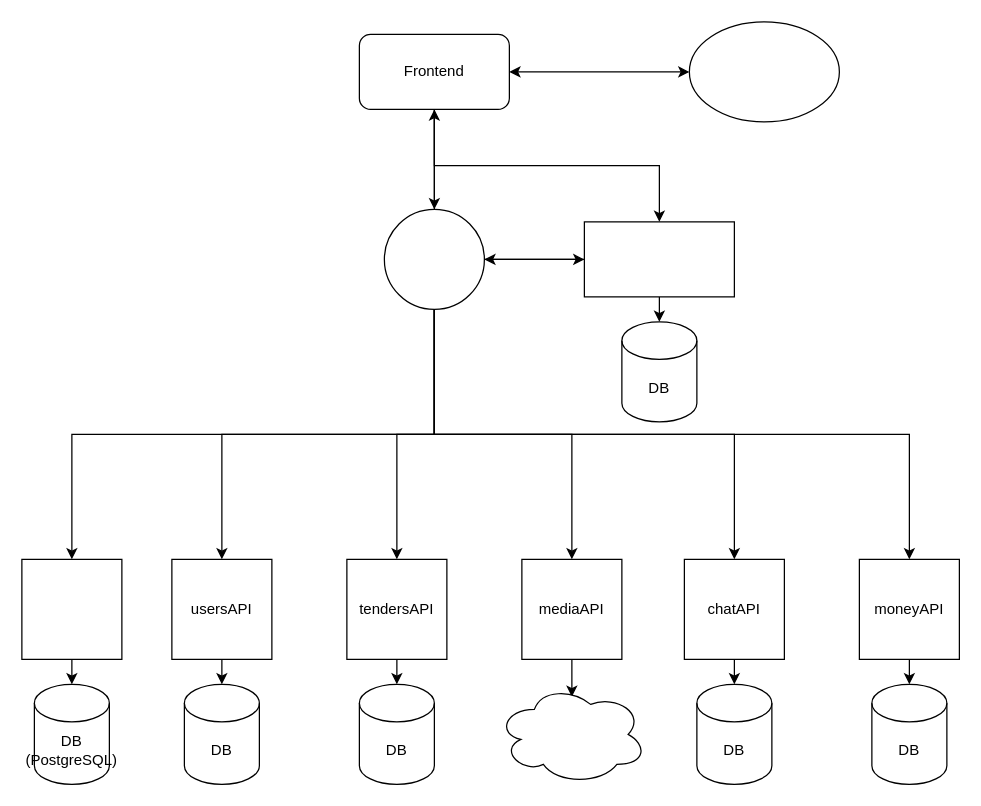
This 981x806 diagram has some shape labels left out. Each missing label, with the centre of its shape:
"GraphQL" belongs at point (433, 258).
"Identity Server 4" belongs at point (658, 259).
"initiativeAPI" belongs at point (71, 608).
"Mapbox" belongs at point (763, 71).
